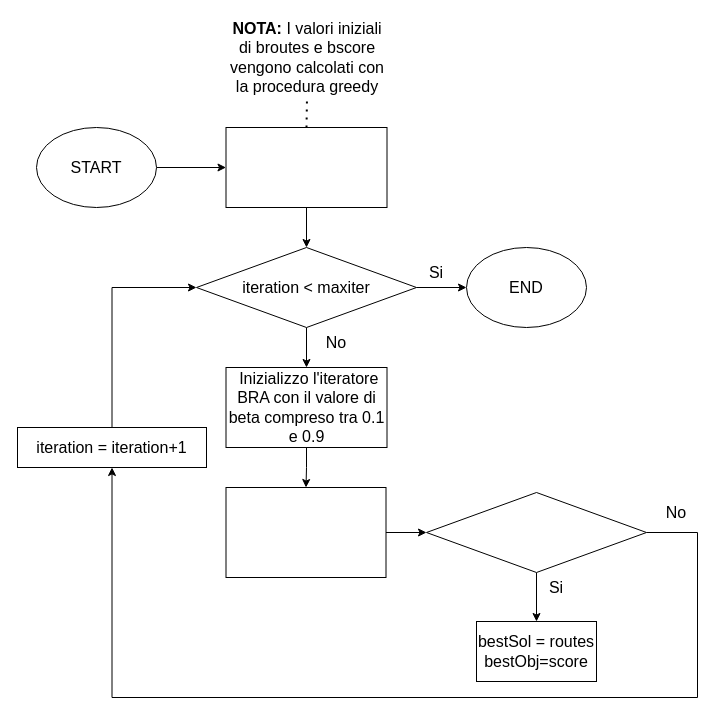
Some shapes in this 724 by 723 pixel diagram are drawn without their labels. The centre of each missing label's shape, as x and y in pixels:
Genero una nuova soluzione (routes) con BRA di valore (score): [305,532]
iteration = 0, bestSol=broutes, bestObj=bscore: [306,167]
score > bestObj: [536,532]
